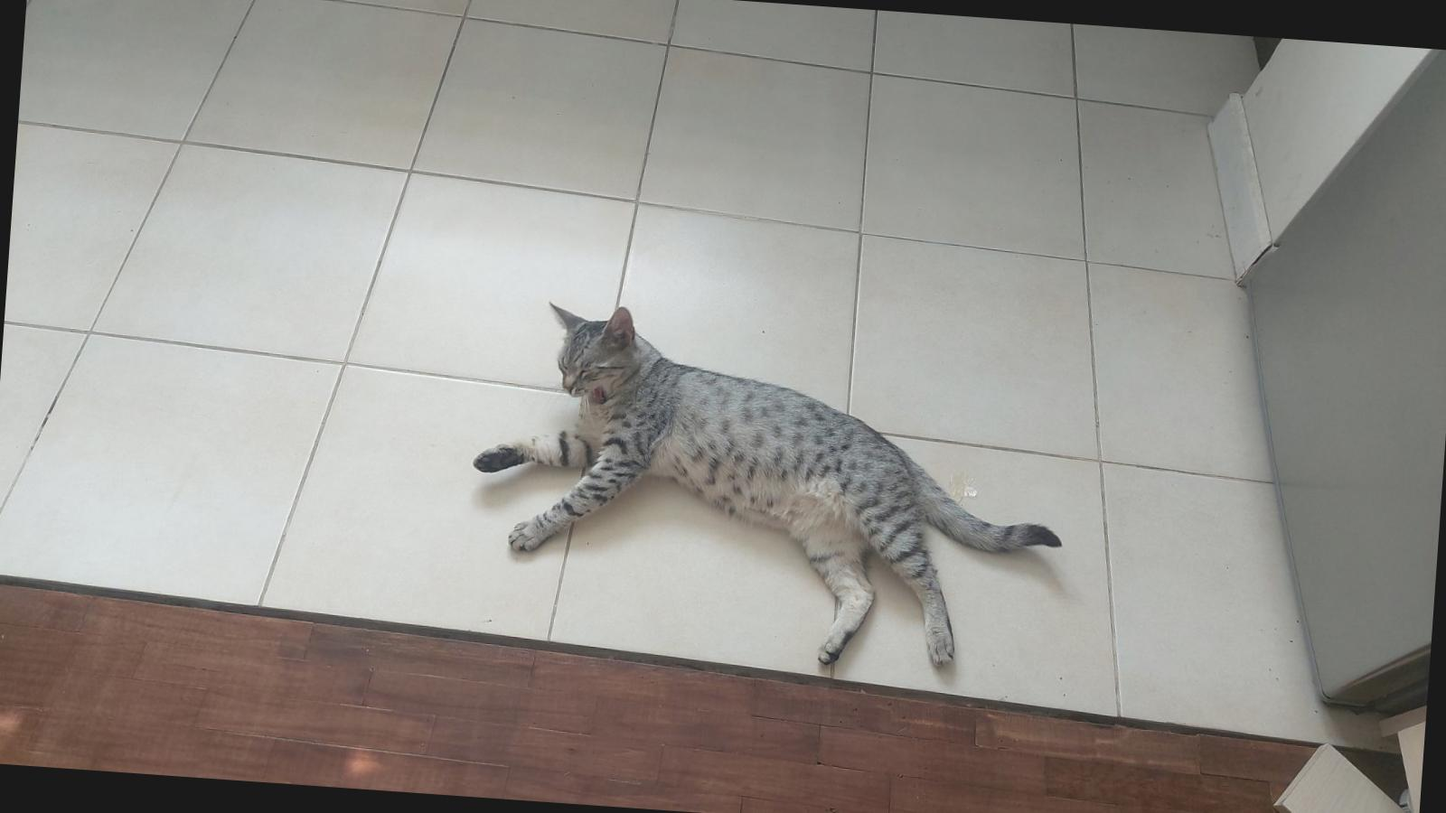macka: (462, 296, 1079, 682)
